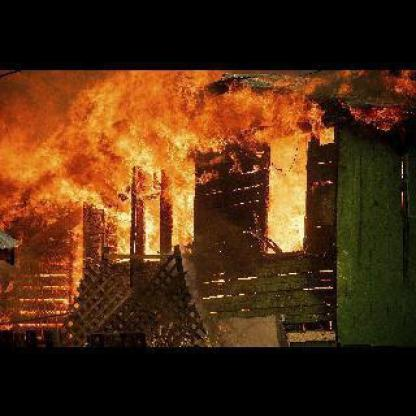fire: (4, 69, 413, 333)
